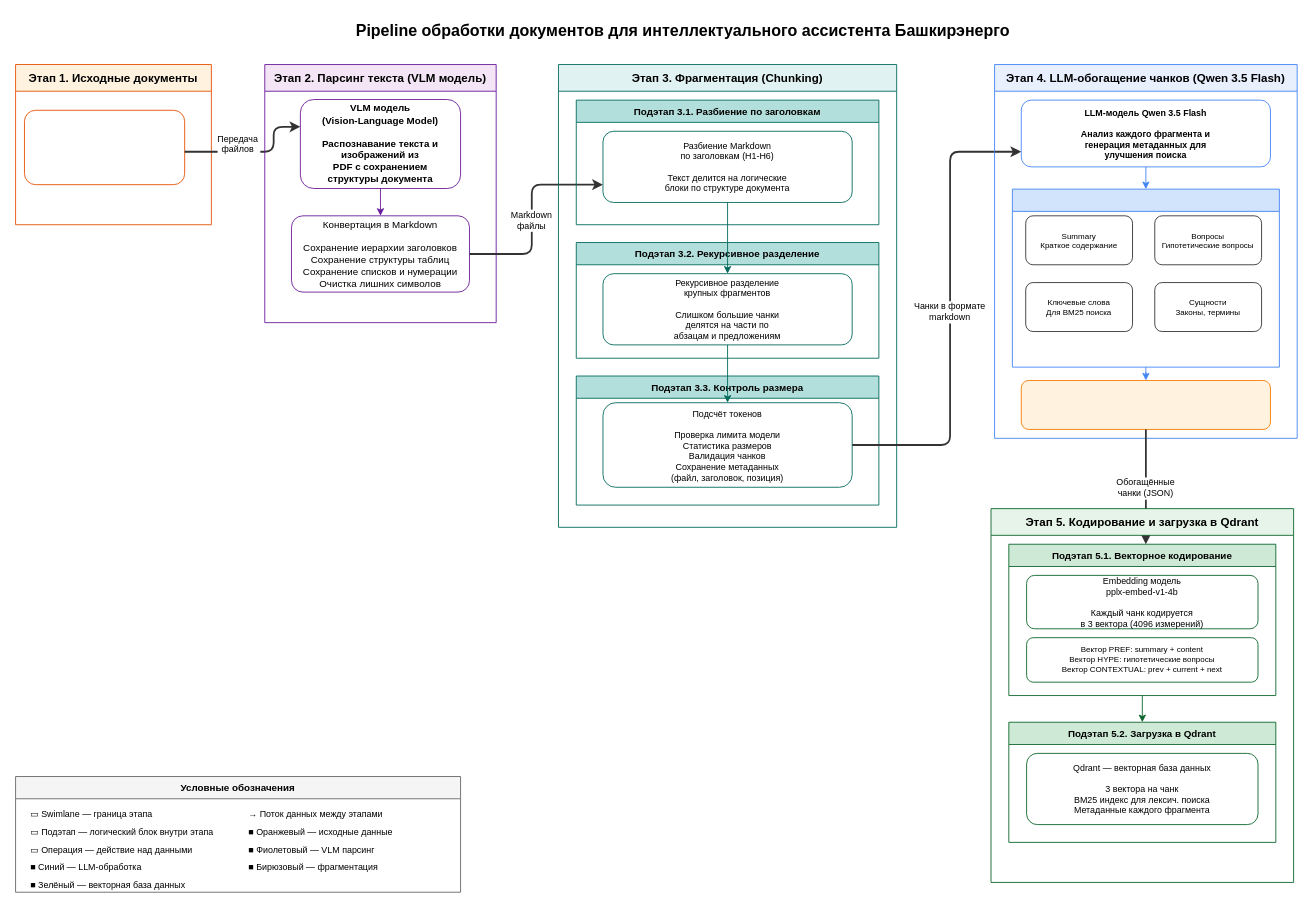
Some shapes in this 1313 by 908 pixel diagram are drawn without their labels. Here are the shapes that lost their labels. From the top down, the centre of each, then its label:
point (104, 147): Нормативные документы Формат: PDF Количество: 22 документа
point (1145, 404): Восстановление JSON Исправление ошибок формата после LLM
